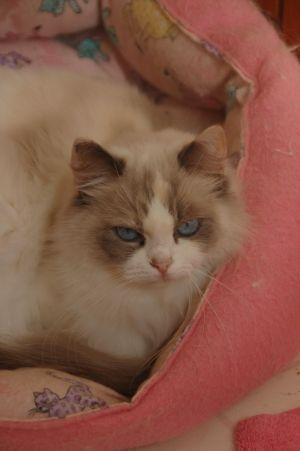ragdoll: (65, 127, 255, 308)
